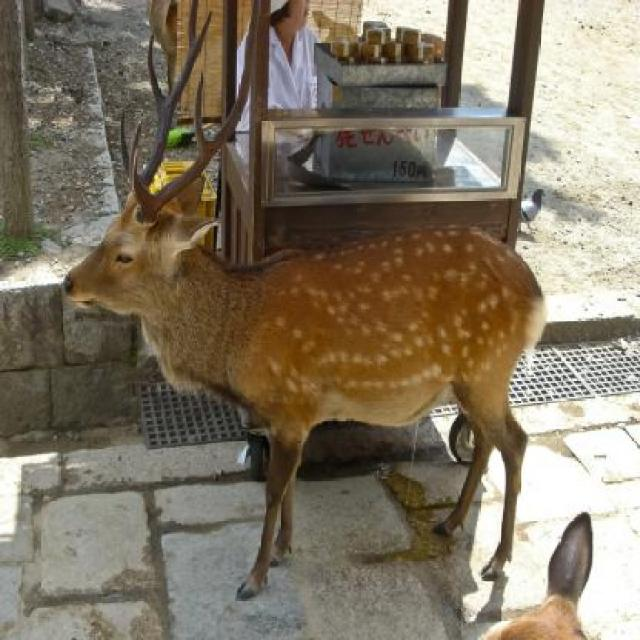Deer: (65, 0, 548, 597), (476, 512, 590, 639)
